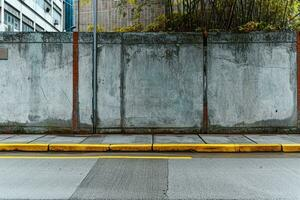Wall: (4, 35, 299, 131)
